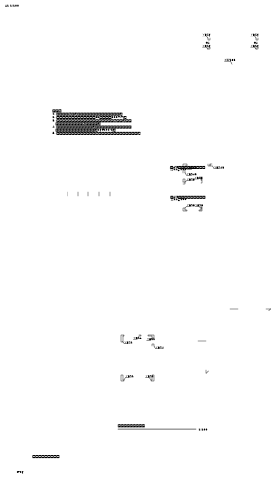wall: (196, 318, 205, 321), (159, 310, 168, 313), (75, 105, 83, 108), (77, 61, 84, 64), (106, 61, 113, 64), (108, 109, 115, 112), (118, 99, 125, 102), (90, 111, 97, 114), (183, 476, 190, 479), (248, 476, 255, 479), (172, 305, 181, 307), (159, 317, 168, 319), (159, 270, 167, 272), (173, 270, 181, 272), (159, 301, 167, 303), (183, 463, 190, 465), (248, 463, 255, 465), (181, 300, 183, 304), (106, 64, 110, 66), (173, 272, 177, 274), (108, 109, 112, 111), (139, 319, 143, 321), (183, 466, 187, 468), (248, 466, 252, 468), (78, 105, 81, 107), (80, 64, 83, 66), (162, 272, 165, 274), (162, 303, 165, 305), (199, 318, 202, 320), (173, 305, 176, 307), (162, 317, 165, 319), (162, 310, 165, 312), (120, 99, 123, 101), (90, 111, 93, 113), (190, 321, 193, 323), (140, 316, 143, 318), (140, 282, 143, 284), (140, 279, 143, 281), (187, 469, 190, 471), (252, 469, 255, 471), (157, 299, 159, 301)
